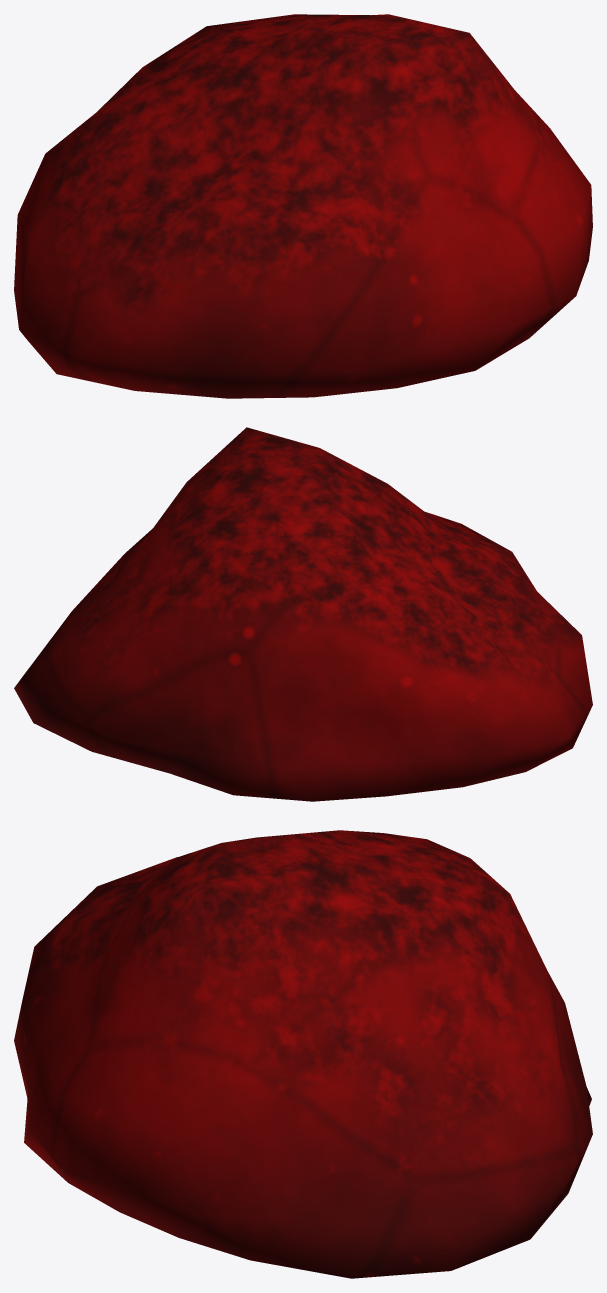
The model's file is roca_musgo_a.glb.
3 renders of one model, top to bottom at view 1: azimuth 30°, elevation 25°; view 2: azimuth 150°, elevation 25°; view 3: azimuth 270°, elevation 25°, orthographic. The views are drawn at different scales.
Parts seen in each view (by area): view 1: roca_musgo_a; view 2: roca_musgo_a; view 3: roca_musgo_a.
Part boxes in pixels (bbox=[...]): roca_musgo_a: bbox=[14, 14, 592, 398]; roca_musgo_a: bbox=[14, 427, 592, 801]; roca_musgo_a: bbox=[14, 830, 592, 1278].
Size of the model in its own units: 1.74 by 0.7449 by 1.34.
Materials: 1 (1 with a texture image).
